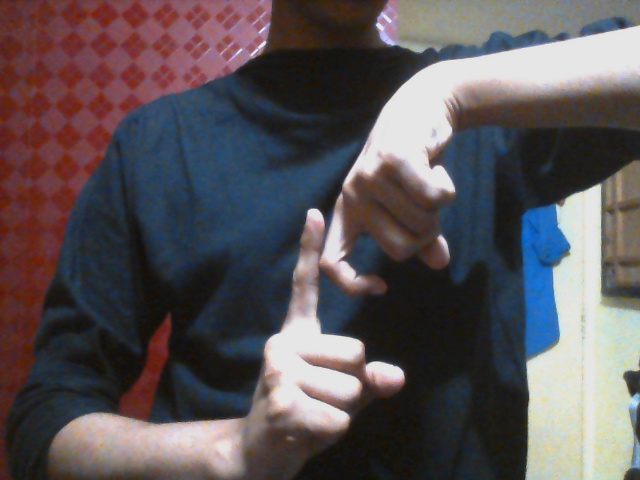K: (246, 138, 452, 475)
